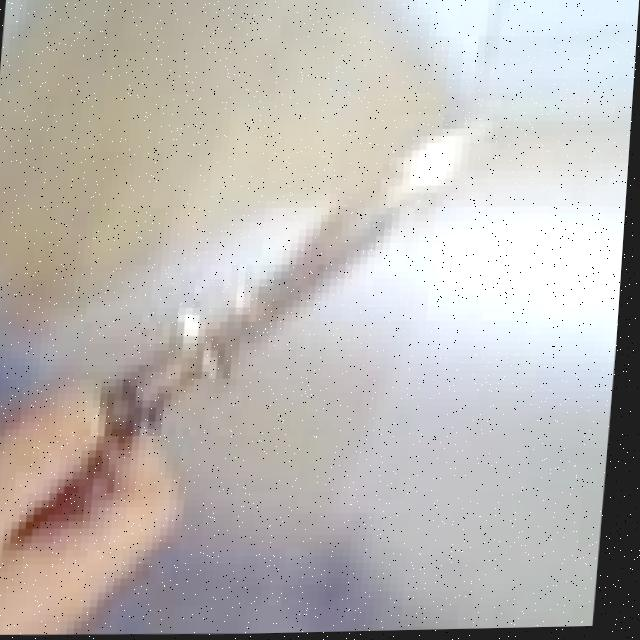knife: (102, 108, 509, 463)
